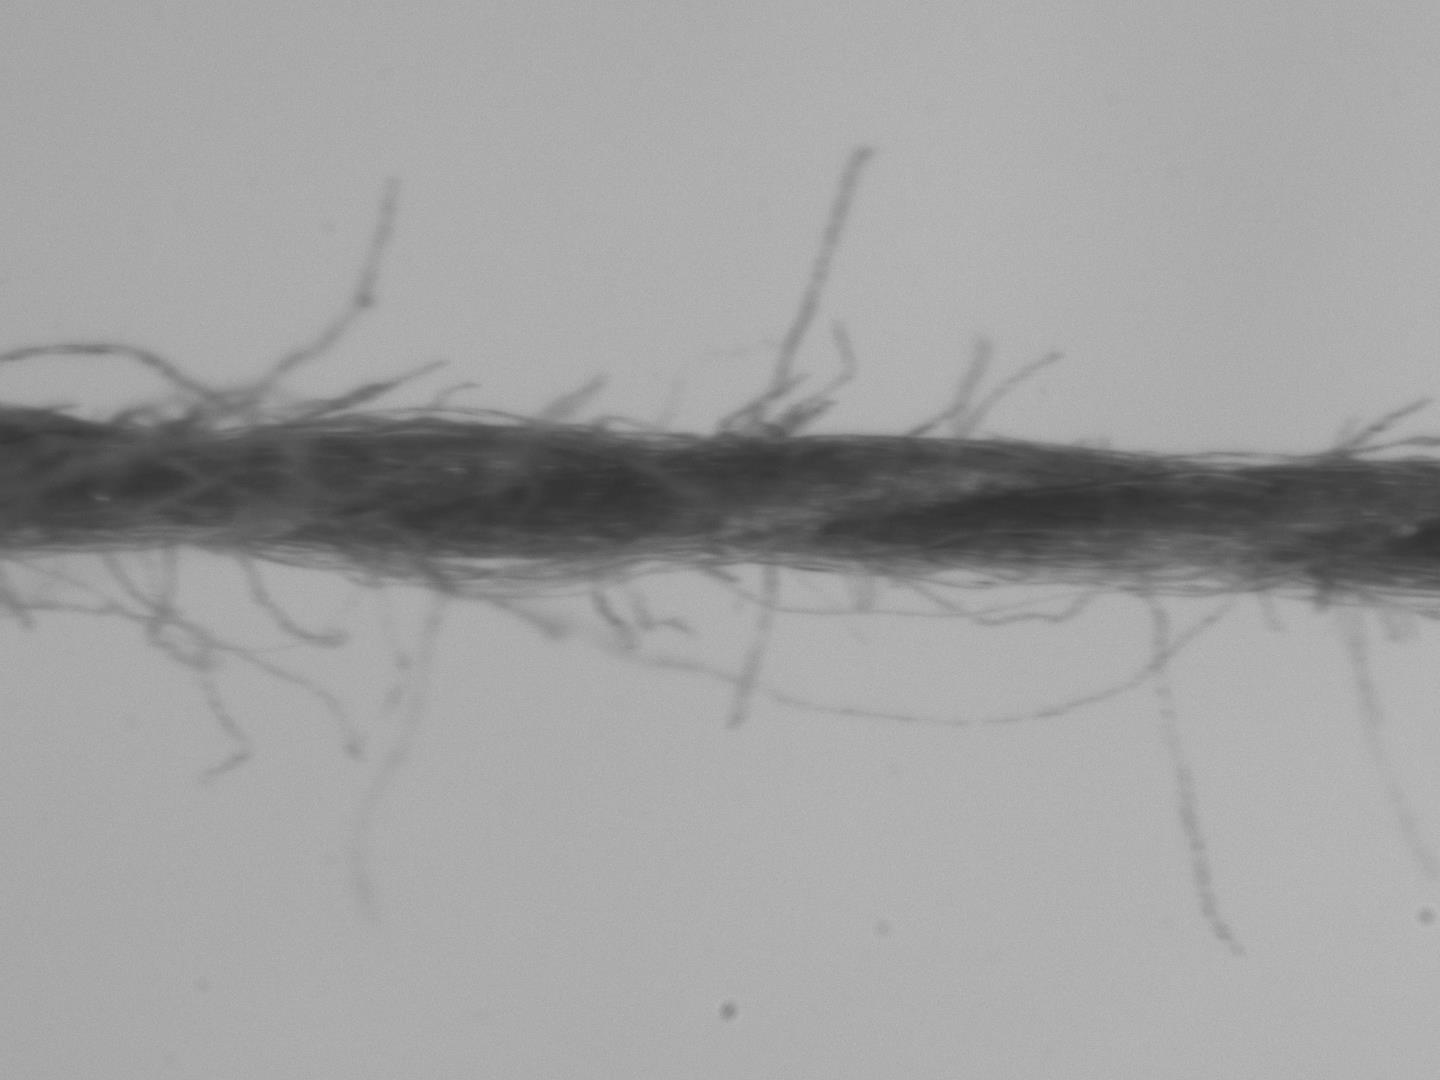loop_fiber: (881, 571, 1126, 631)
protruding_fiber: (1125, 576, 1254, 969), (746, 138, 878, 441)
